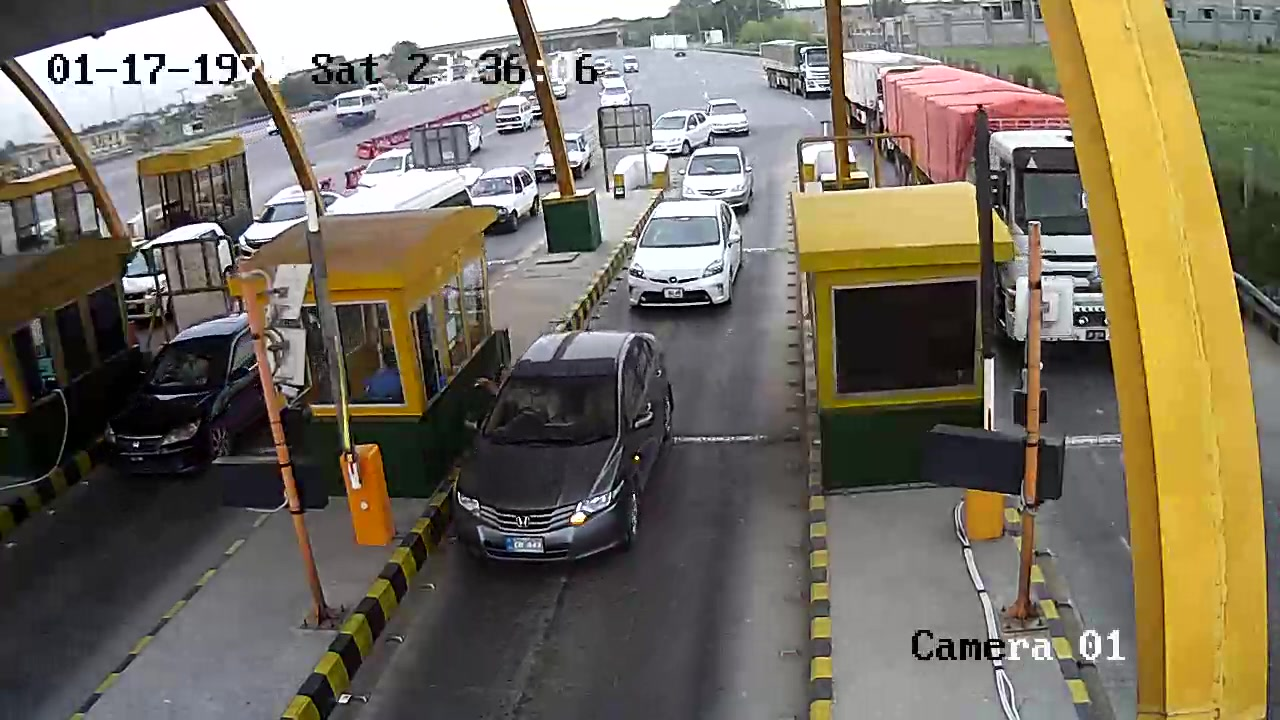F1: (443, 330, 697, 575), (619, 199, 747, 324)
